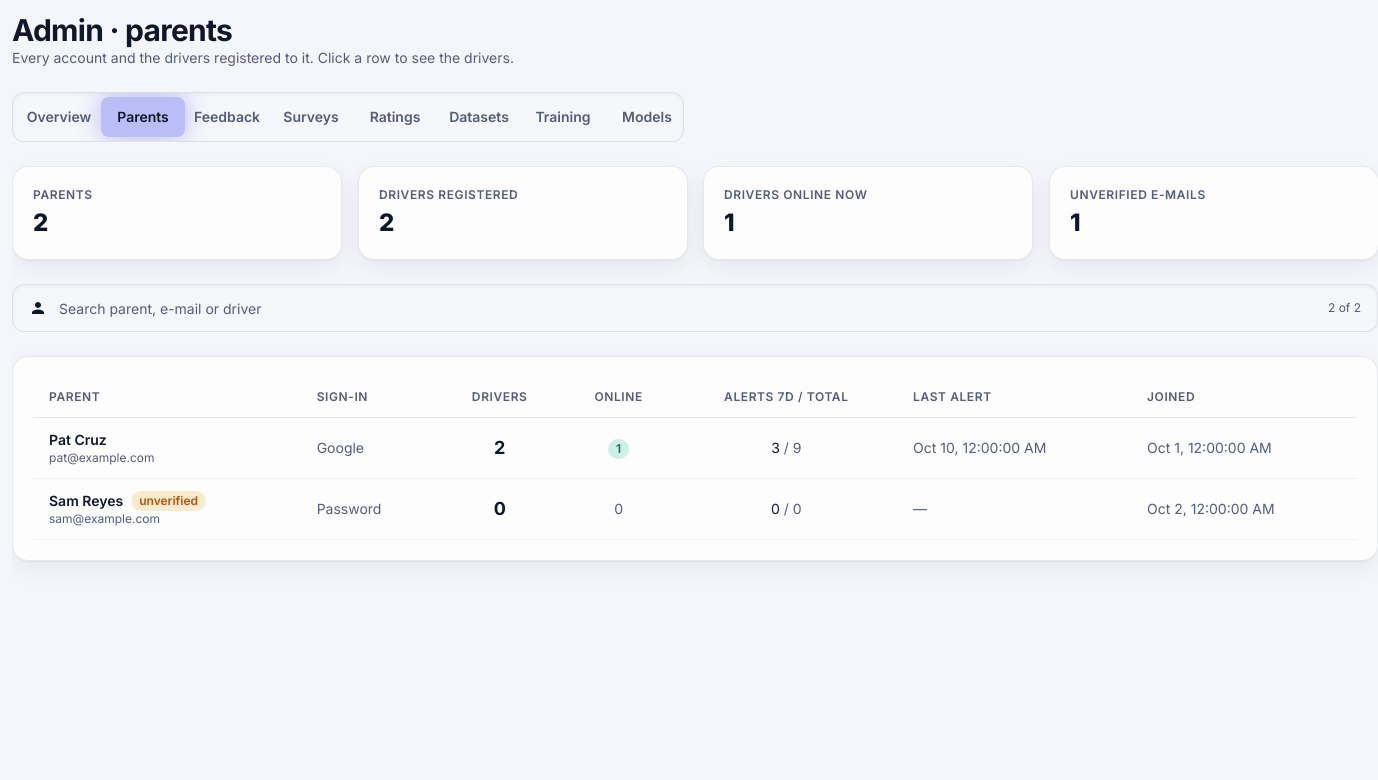
Scenario: Parents tab › lists parents with their driver counts; a row expands to its drivers; search filters
Expected: the text "Pat Cruz" shows "Google", [317, 439, 364, 456]
Expected: the text "2" is shown, [438, 418, 562, 478]
Click the text "Pat Cruz".
click(695, 448)  # box [33, 418, 1357, 478]
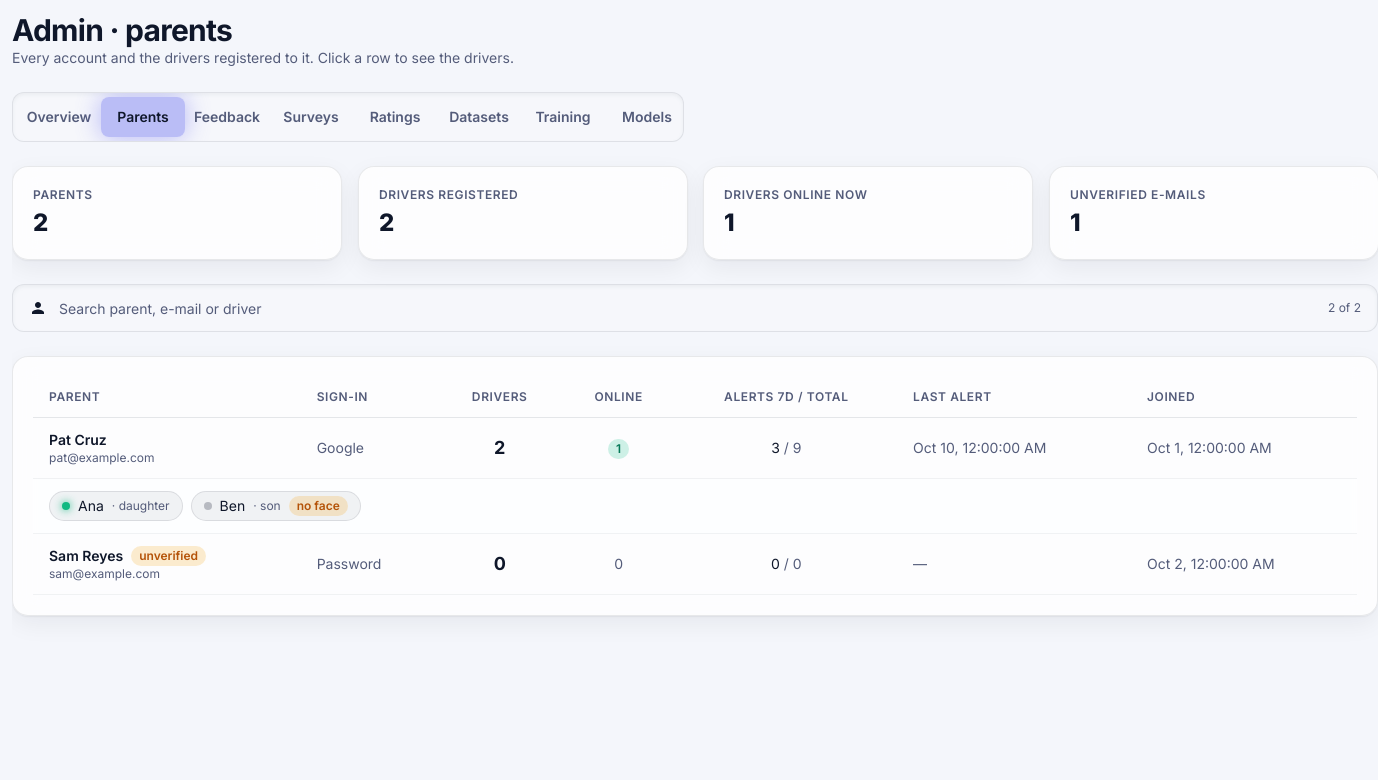
Expected: the text "unverified" is shown, [131, 546, 206, 566]
Result: the list item "Ben" is shown at [220, 497, 245, 514]
Type "ana" into the field named "Search parents".
click(688, 308); type("ana")  # box [59, 285, 1316, 331]
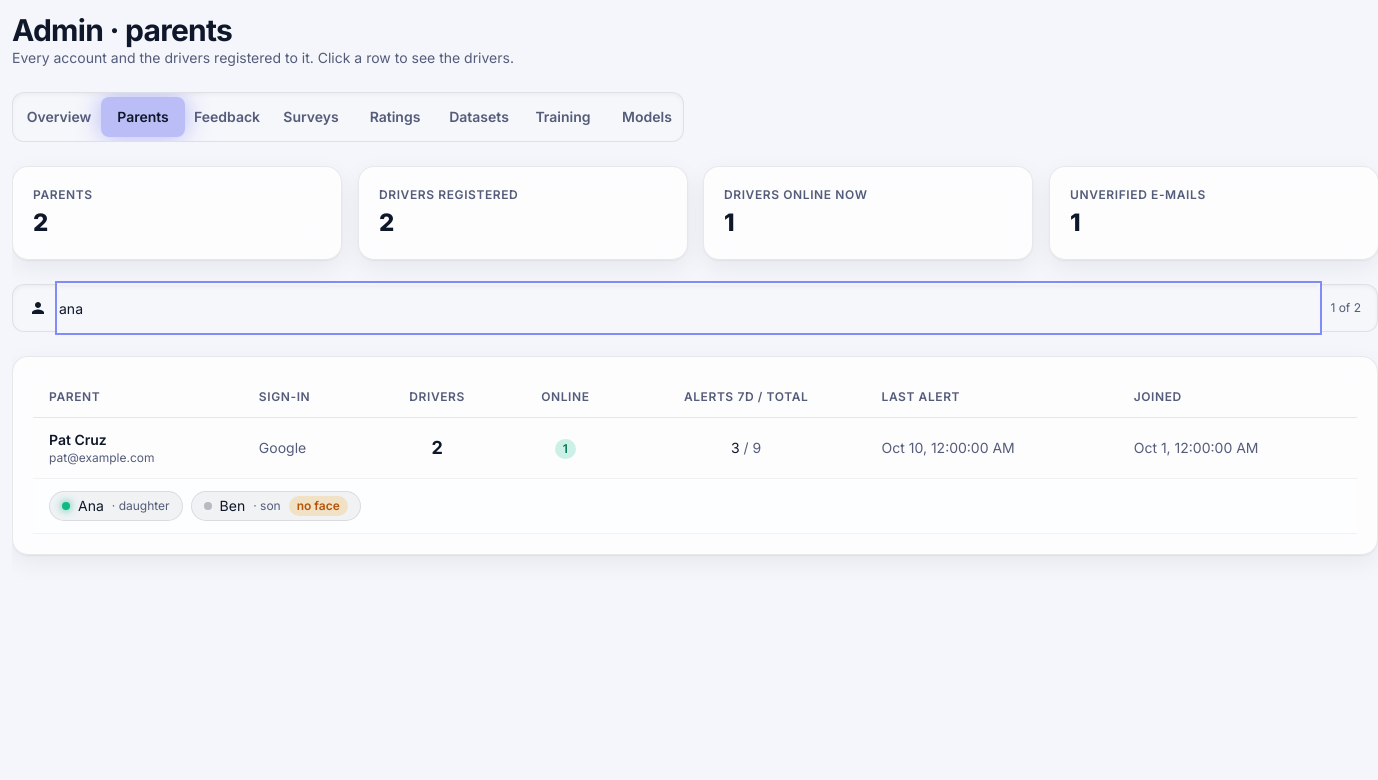
Expected: the text "Pat Cruz" is shown, [49, 430, 107, 450]
Result: the text "Sam Reyes" is gone
